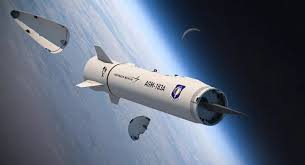ten_lua: (76, 55, 246, 129)
